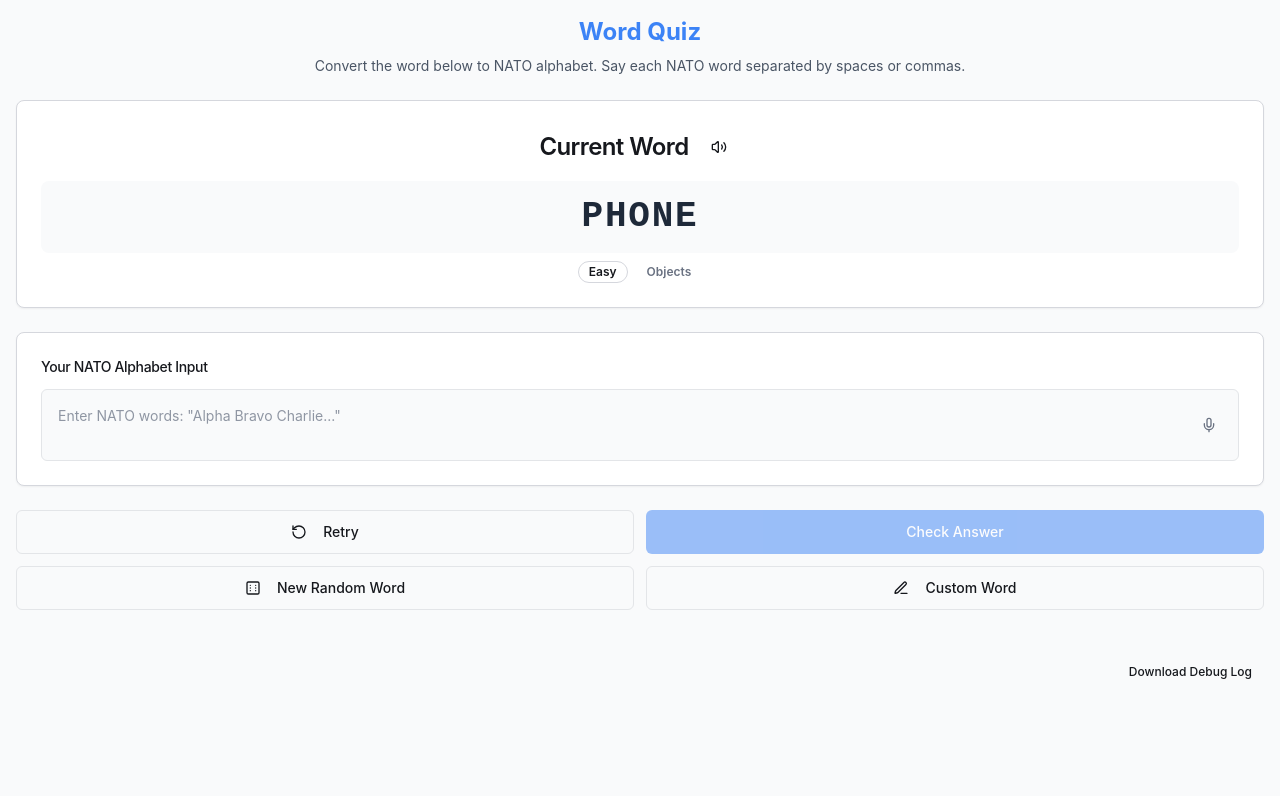
Test: wordQuizSection › user interactions › should handle check answer functionality
Check: the heading "Word Quiz" is shown, box [579,17,701,46]
Note: Enable custom mode first
Click the button "Custom Word".
click(955, 588)  # box [646,566,1264,610]
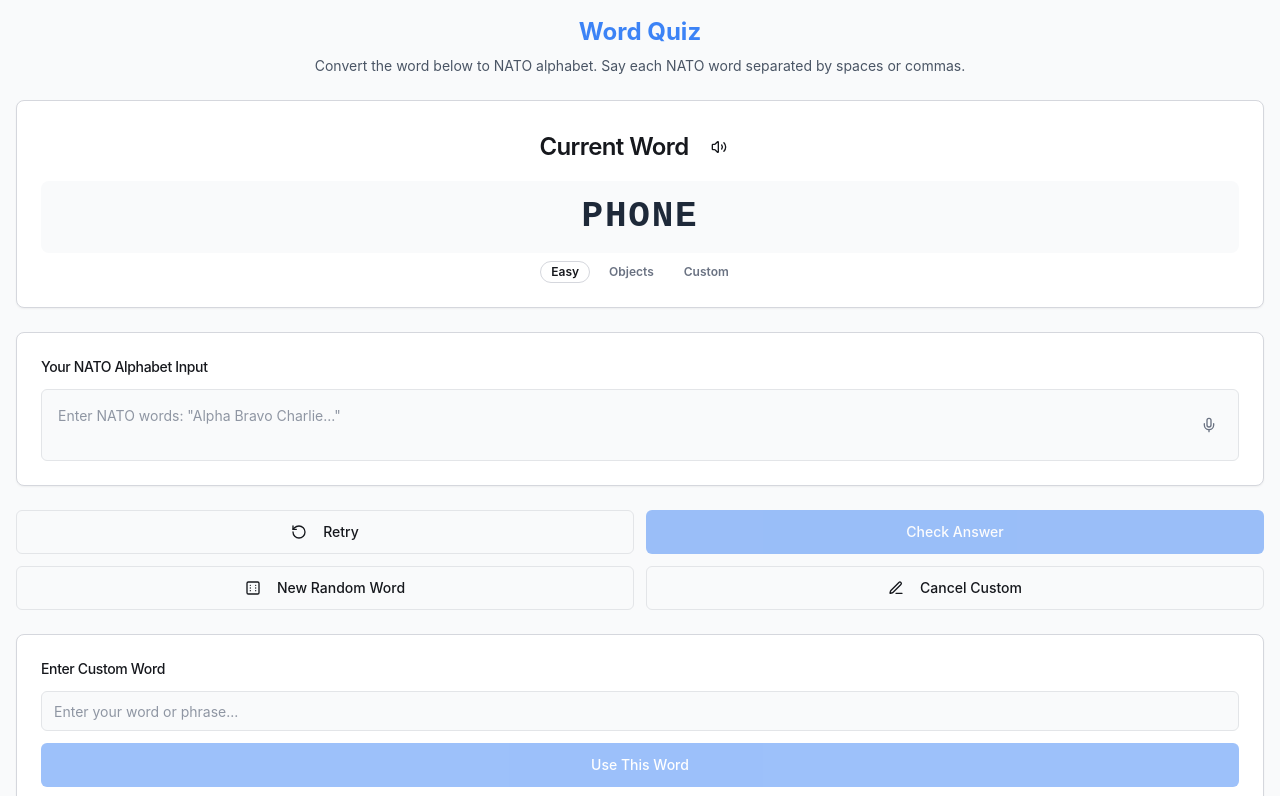
Type "CAT" into the field with placeholder "Enter your word or phrase...".
click(640, 711); type("CAT")  # box [41,691,1239,731]
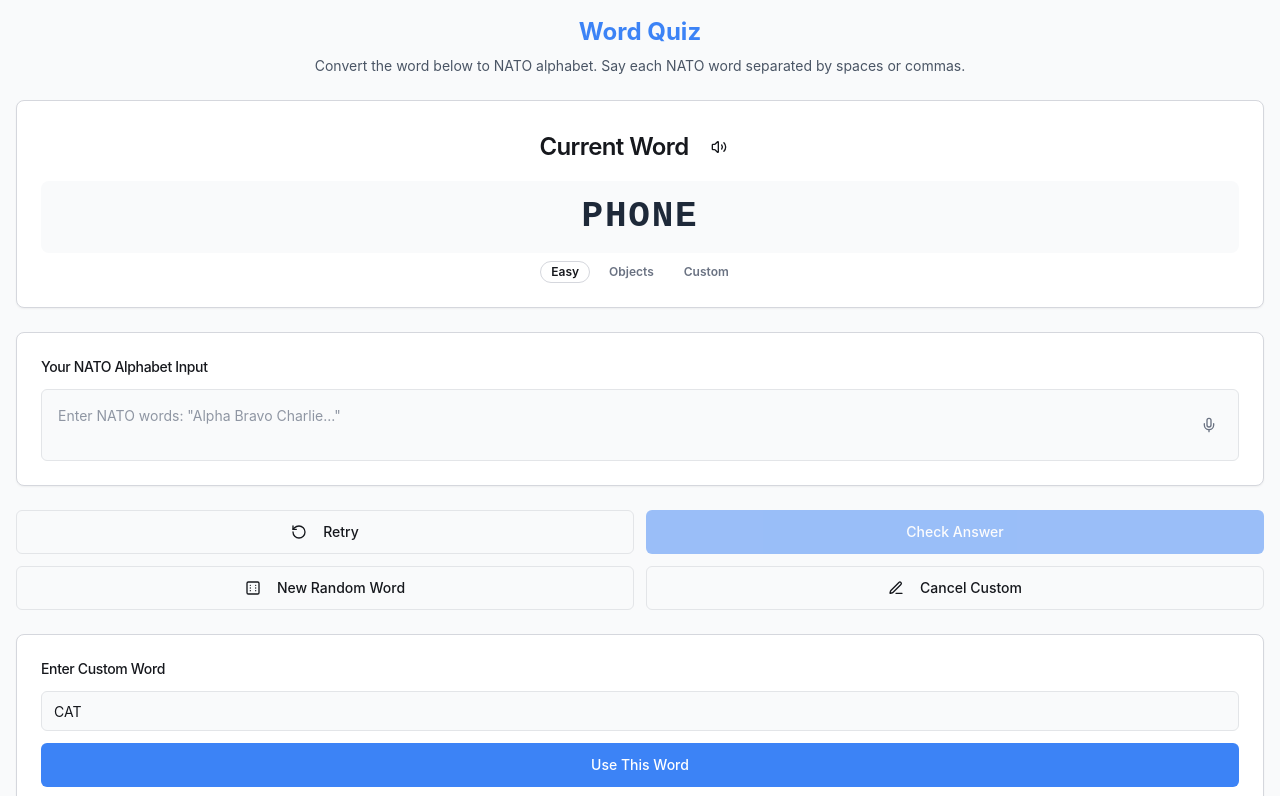
Click the button "Use This Word".
click(640, 765)  # box [41,743,1239,787]
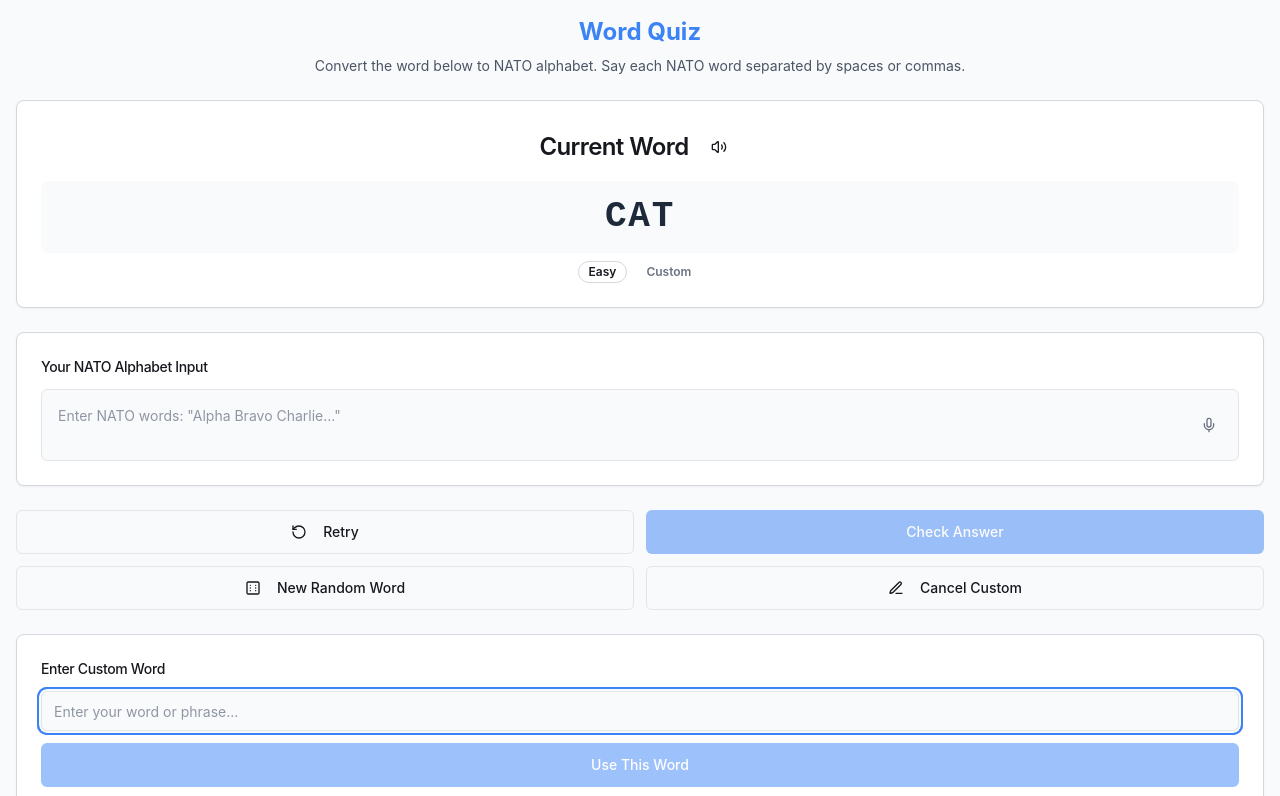
Check: the element with class "font-mono" reads "CAT", box [41,181,1239,253]
Type "Charlie Alpha Tango" into the text box with placeholder "Enter NATO words: \"Alpha Bravo Charlie...\"".
click(640, 425); type("Charlie Alpha Tango")  # box [41,389,1239,461]
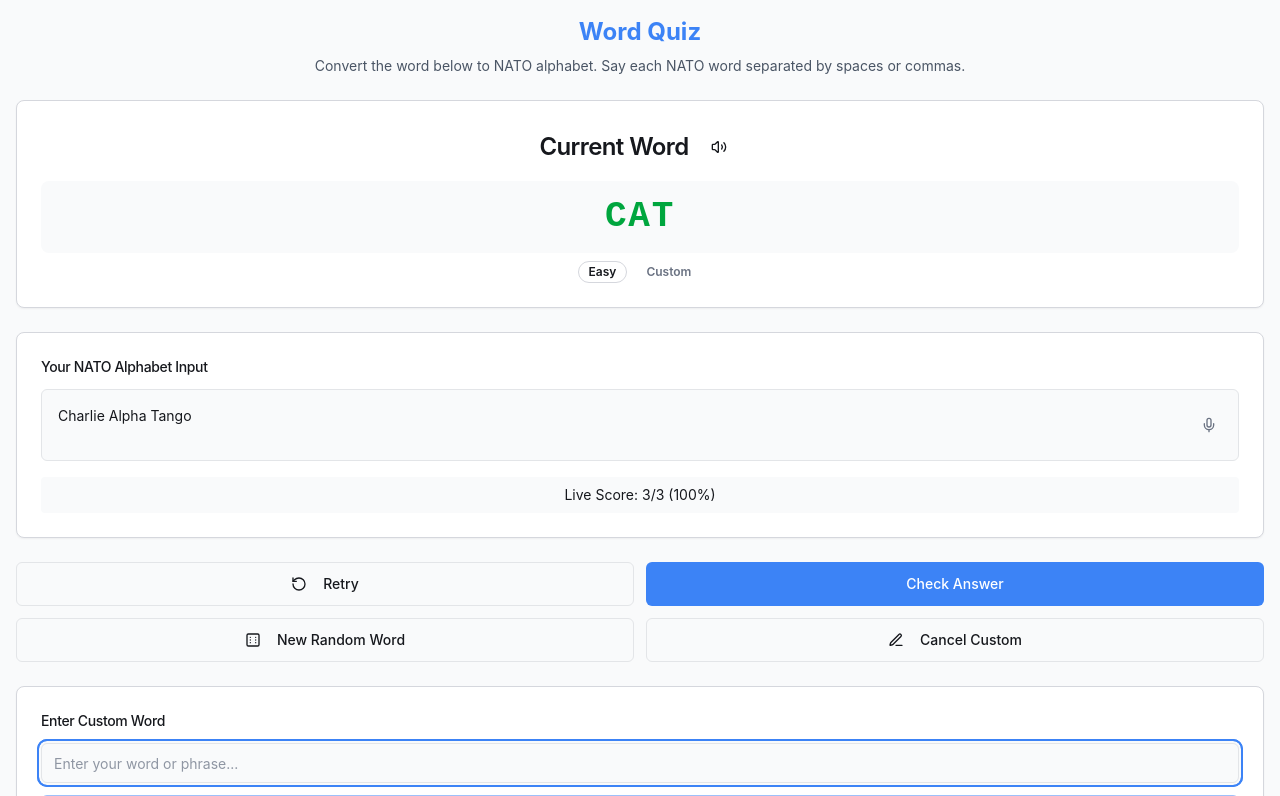
Click the button "Check Answer".
click(955, 584)  # box [646,562,1264,606]
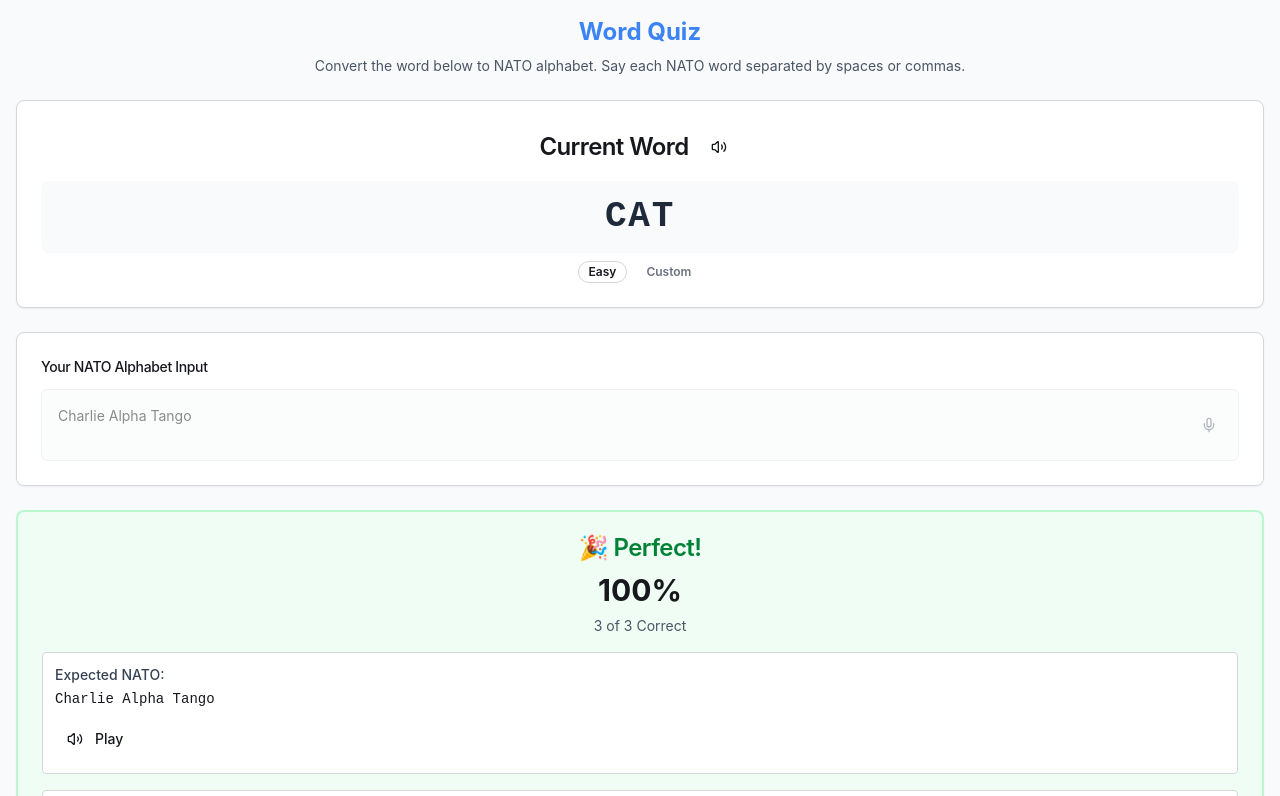
Check: the text "🎉 Perfect!" is shown, box [579,533,701,562]
